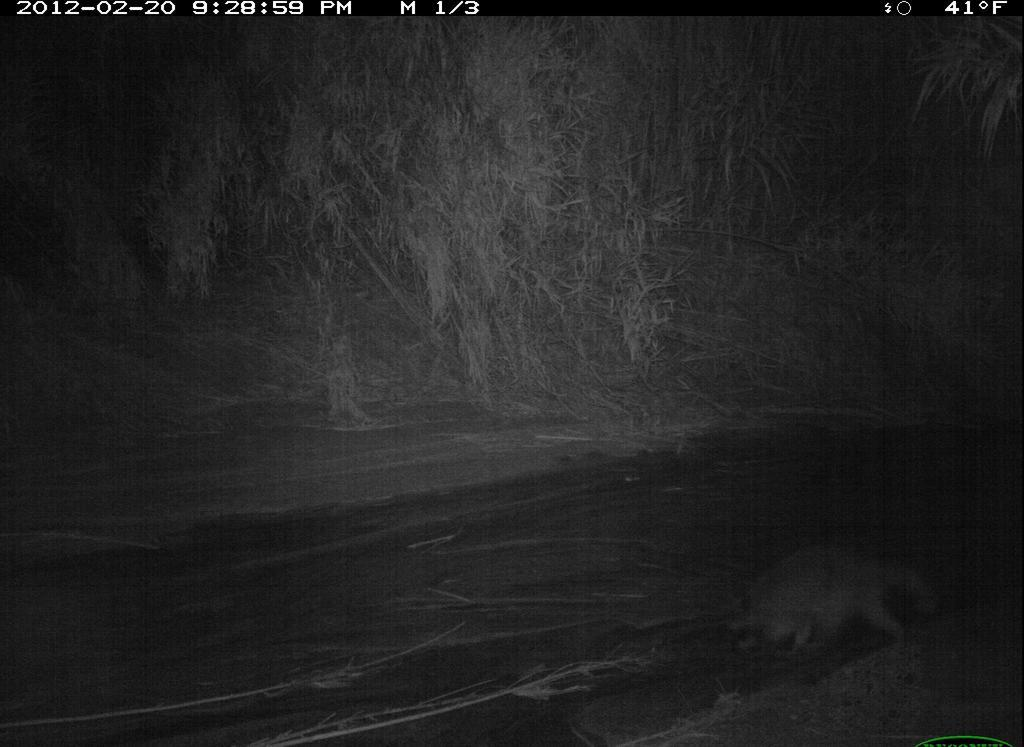raccoon: (713, 533, 954, 674)
